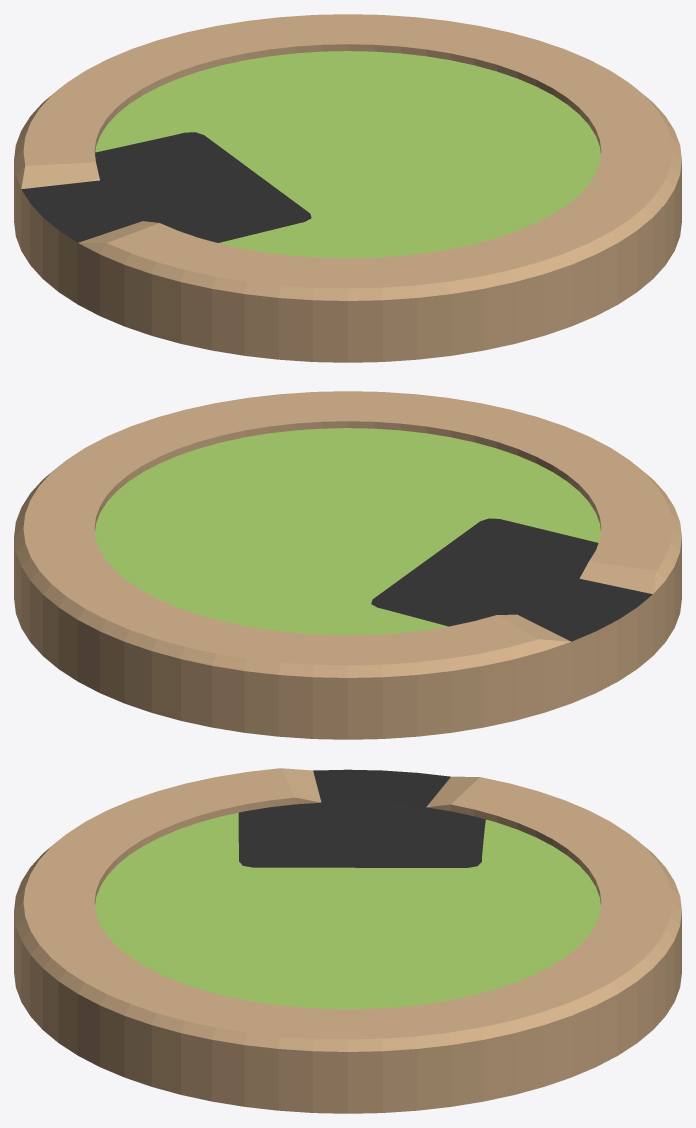
Rendered from roundabout.fbx.
3 views of the same model, one above another, from view 1: azimuth 30°, elevation 25°; view 2: azimuth 150°, elevation 25°; view 3: azimuth 270°, elevation 25° (orthographic).
Visible parts, largest first — view 1: road_1.001; view 2: road_1.001; view 3: road_1.001.
Part boxes in pixels (box(x1,y1,x2,y2)): road_1.001: box(14, 14, 681, 362); road_1.001: box(14, 391, 681, 739); road_1.001: box(14, 768, 681, 1113).
Bounding box in the file's own units: 3020 × 351 × 3020.
